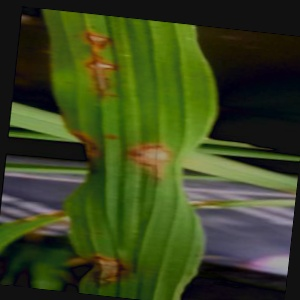Brown_Spot: (58, 115, 123, 186), (126, 120, 183, 196), (76, 231, 136, 288), (79, 55, 128, 98), (72, 21, 118, 58)
